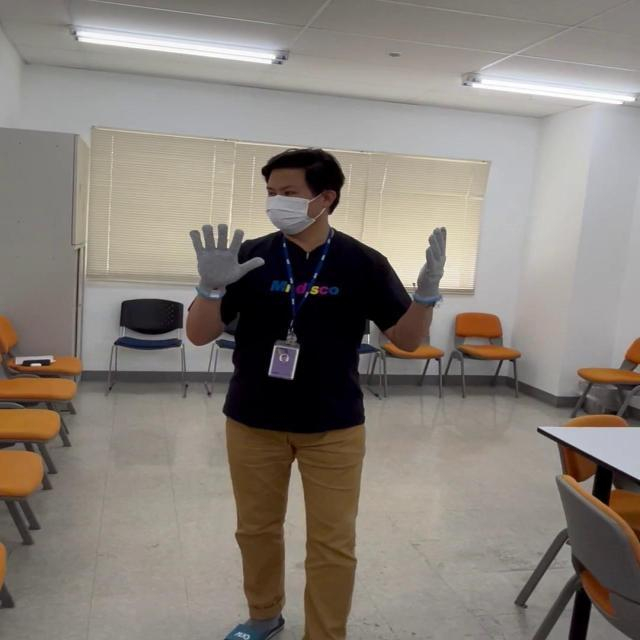gloved_hand: (191, 226, 265, 288), (397, 226, 449, 304)
